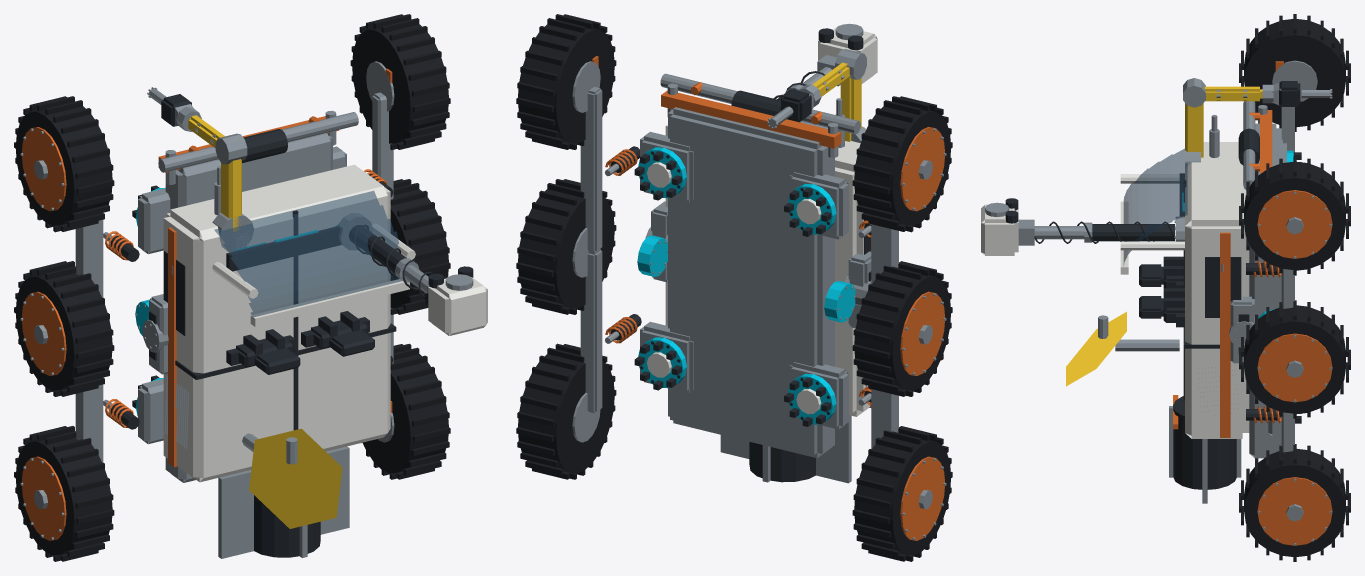
Rendered from ares_vi_aaa_master.obj.
3 views of the same model, side by side, from view 1: azimuth 30°, elevation 25°; view 2: azimuth 150°, elevation 25°; view 3: azimuth 270°, elevation 25° (orthographic). The views are drawn at different scales.
Visible parts, largest first — view 1: Hull_ArmorUpper, Cockpit_CanopyGlass, Antenna_GoldDish, Wheel_FR_TireBody, Chassis_MainSpine, Wheel_FL_TireBody, Wheel_RL_TireBody, Wheel_ML_TireBody, Wheel_RR_TireBody, MMRTG_Fin_Horiz, Wheel_FL_LugTreads, Wheel_FR_LugTreads (+34 smaller); view 2: Chassis_MainSpine, Wheel_FR_TireBody, Wheel_RR_TireBody, Wheel_MR_TireBody, Wheel_FL_TireBody, Wheel_RL_TireBody, Wheel_ML_TireBody, Hull_ArmorUpper, Wheel_FL_LugTreads, Wheel_ML_LugTreads, Wheel_RL_LugTreads, Wheel_FR_LugTreads (+34 smaller); view 3: Hull_ArmorUpper, Wheel_FL_TireBody, Wheel_FR_TireBody, Wheel_RR_TireBody, Wheel_MR_TireBody, Cockpit_CanopyGlass, Wheel_MR_BeadlockRing, Wheel_RR_BeadlockRing, Wheel_FR_BeadlockRing, MMRTG_MainCore, Chassis_MainSpine, Hull_SafetyStrake_R (+27 smaller).
Boxes of the visible parts, x1,y1,x2,y2 form: Hull_ArmorUpper: (163,164,390,482); Cockpit_CanopyGlass: (214,191,401,319); Antenna_GoldDish: (249,428,342,528); Wheel_FR_TireBody: (352,24,448,143); Chassis_MainSpine: (165,133,332,482); Wheel_FL_TireBody: (15,106,112,225); Wheel_RL_TireBody: (15,438,112,555); Wheel_ML_TireBody: (15,273,112,390); Wheel_RR_TireBody: (363,354,448,473); MMRTG_Fin_Horiz: (218,446,349,558); Wheel_FL_LugTreads: (14,96,114,232); Wheel_FR_LugTreads: (350,14,450,149); Chassis_MainSpine: (668,107,834,458); Wheel_FR_TireBody: (518,24,614,143); Wheel_RR_TireBody: (518,354,614,473); Wheel_MR_TireBody: (518,189,614,308); Wheel_FL_TireBody: (854,106,951,225); Wheel_RL_TireBody: (854,436,951,555); Wheel_ML_TireBody: (854,271,951,390); Hull_ArmorUpper: (665,124,870,416); Wheel_FL_LugTreads: (852,96,952,232); Wheel_ML_LugTreads: (852,261,952,396); Wheel_RL_LugTreads: (852,426,952,561); Wheel_FR_LugTreads: (516,14,616,149); Hull_ArmorUpper: (1185,142,1249,438); Wheel_FL_TireBody: (1244,19,1345,127); Wheel_FR_TireBody: (1244,162,1345,270); Wheel_RR_TireBody: (1244,449,1345,557); Wheel_MR_TireBody: (1244,305,1345,413); Cockpit_CanopyGlass: (1123,148,1187,265); Wheel_MR_BeadlockRing: (1257,333,1332,402); Wheel_RR_BeadlockRing: (1257,477,1332,545); Wheel_FR_BeadlockRing: (1257,190,1332,258); MMRTG_MainCore: (1173,396,1236,489); Chassis_MainSpine: (1249,123,1281,458); Hull_SafetyStrake_R: (1220,232,1230,437).
Size of the model in its own units: 2.9 by 3.21 by 2.76.
